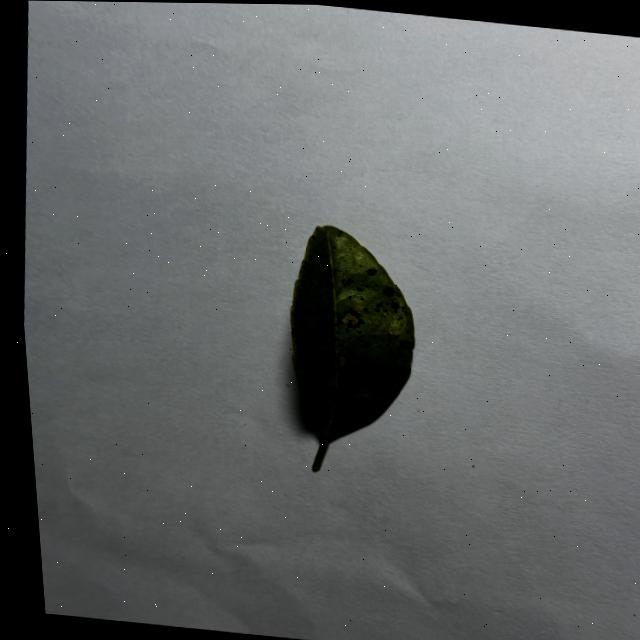sooty_mold: (289, 224, 413, 469)
